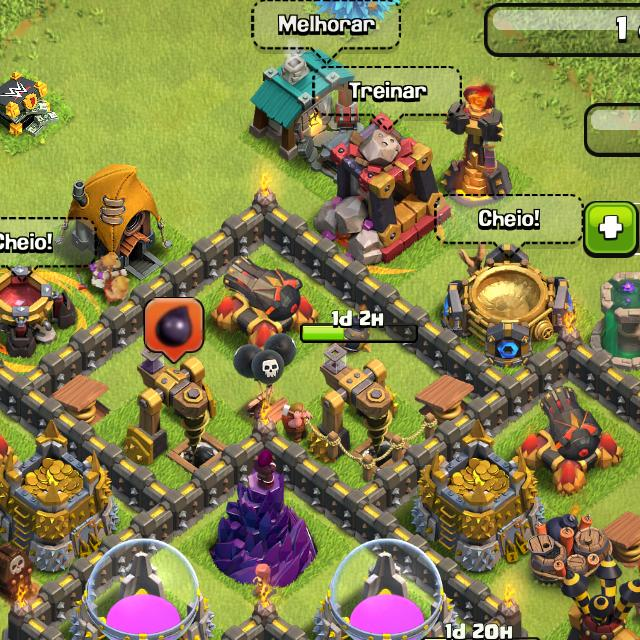FullElixirNegro: (146, 299, 204, 362)
